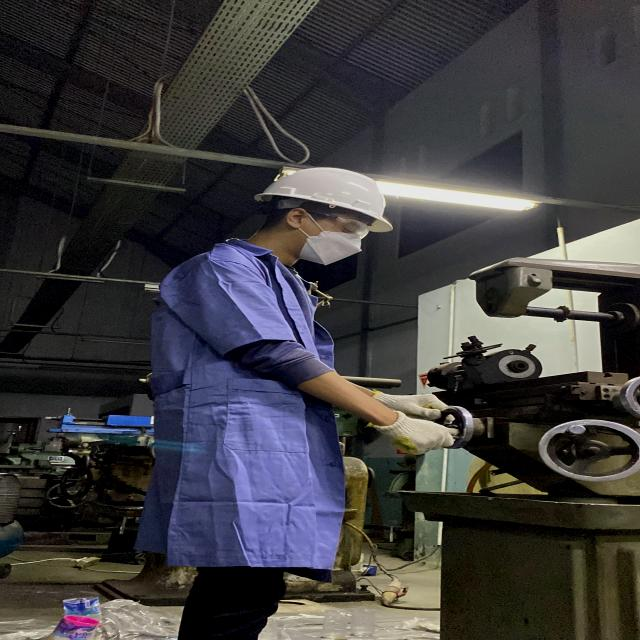face_mask: (291, 215, 378, 267)
glasses: (311, 208, 372, 240)
hand_glove: (378, 416, 461, 456), (373, 388, 454, 417)
head_helmet: (252, 164, 399, 234)
person: (139, 161, 457, 640)
